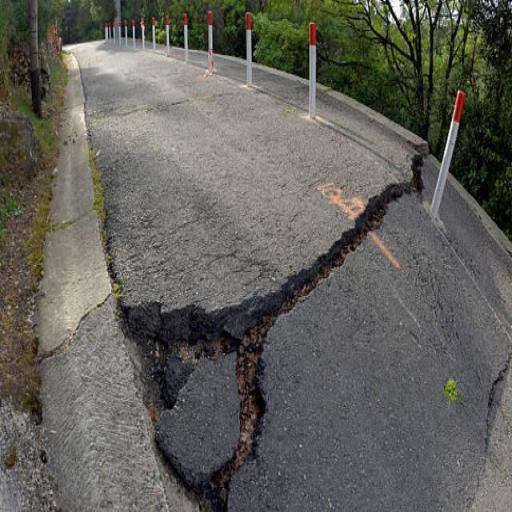Concentric_Crack: (122, 140, 428, 509)
